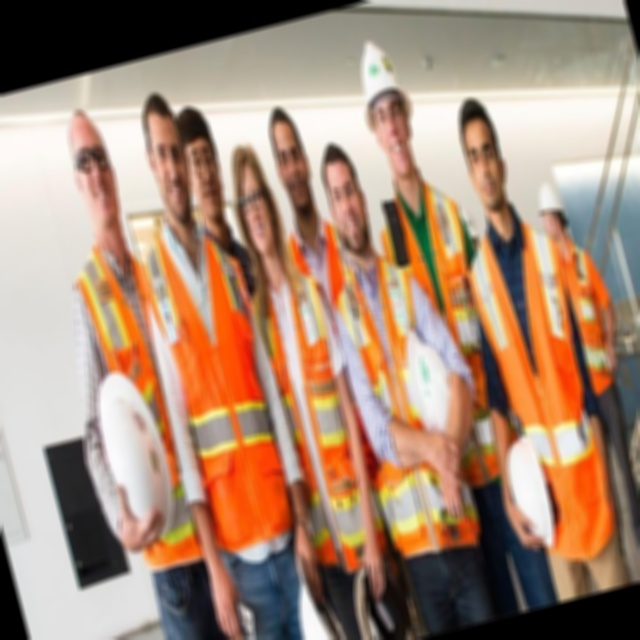Con_Casco: (346, 37, 427, 185)
Con_Chaleco: (462, 209, 625, 556), (141, 218, 305, 545), (65, 241, 222, 569), (328, 248, 480, 555), (246, 258, 395, 569)
Sin_Casco_Mascarrilla: (57, 102, 131, 245), (134, 90, 203, 229), (451, 95, 515, 216), (263, 104, 319, 215)
